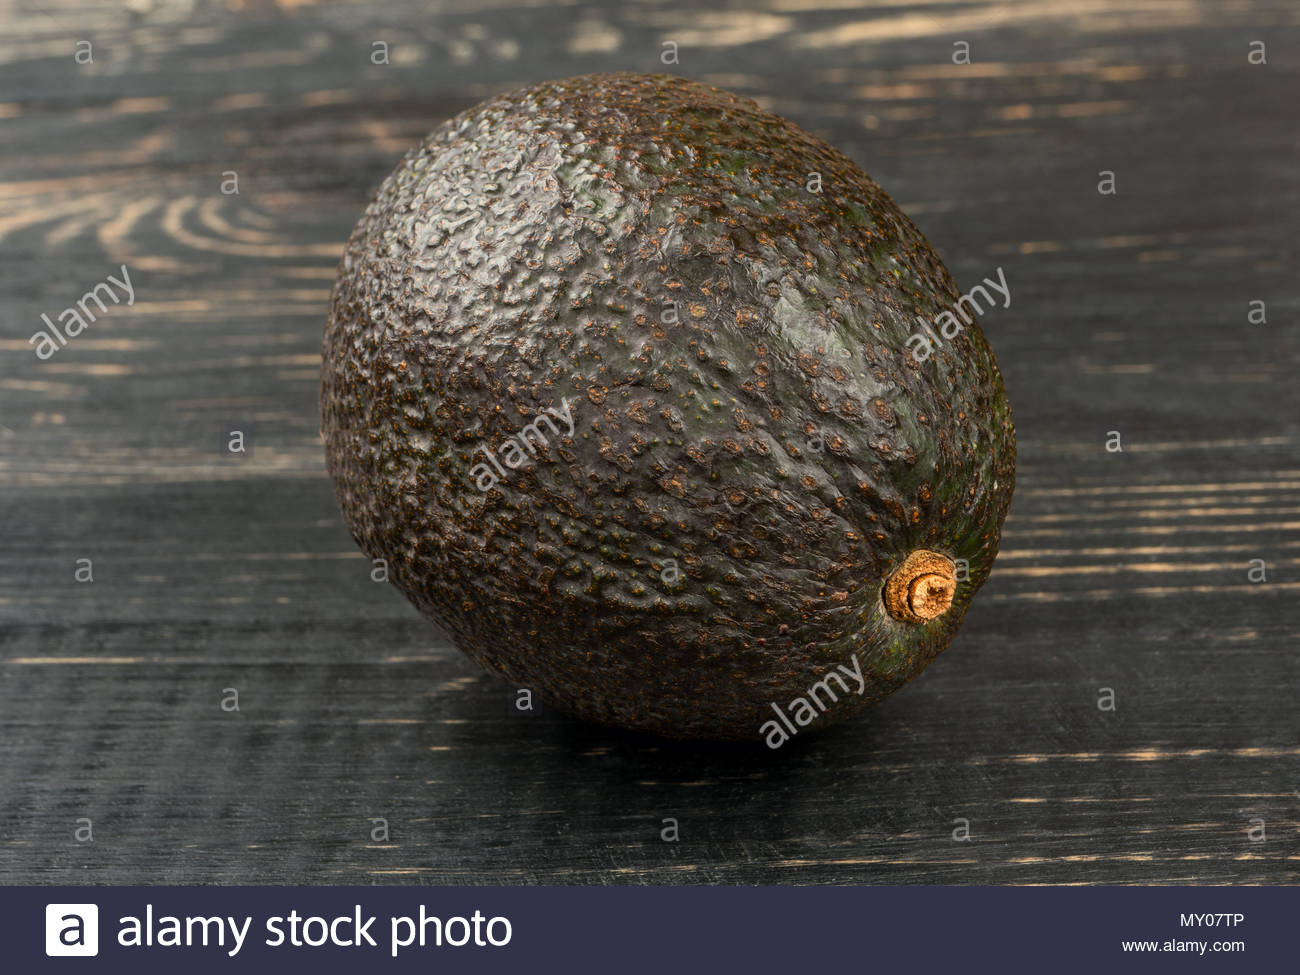fit_avocado: (241, 62, 1115, 774)
